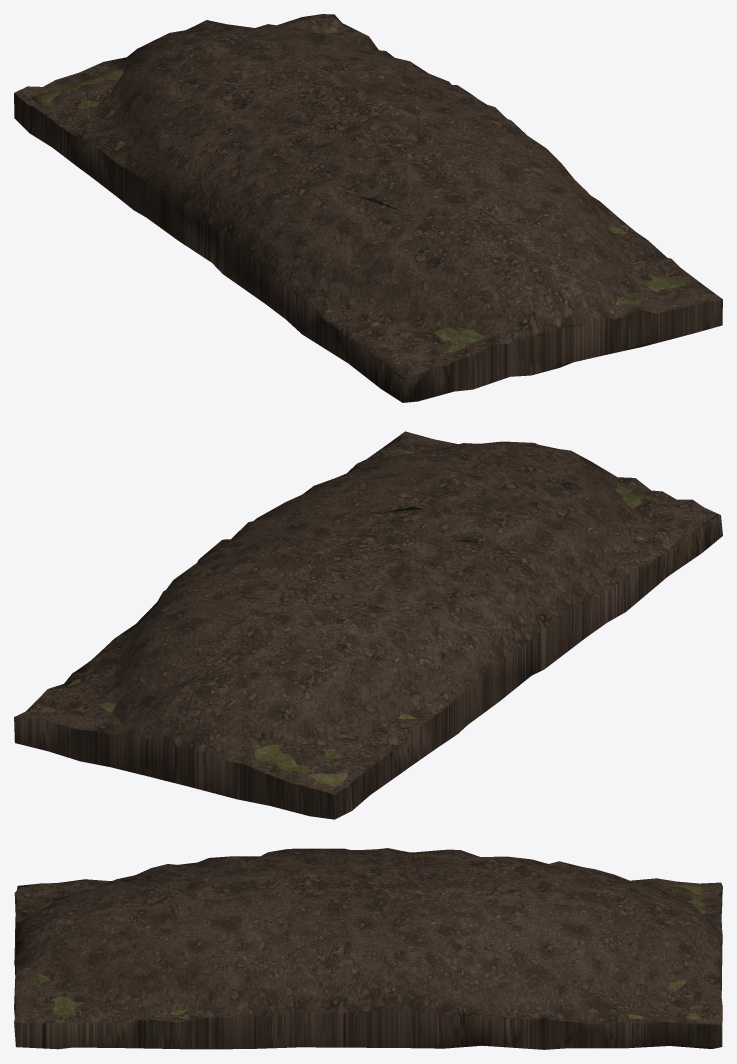
The model's file is mound.glb.
3 views of the same model, one above another, from view 1: azimuth 30°, elevation 25°; view 2: azimuth 150°, elevation 25°; view 3: azimuth 270°, elevation 25° (orthographic). The views are drawn at different scales.
Visible parts, largest first — view 1: mound_a, mound_b; view 2: mound_a, mound_b; view 3: mound_a, mound_b.
Boxes of the visible parts, box(x1,y1,x2,y2) form: mound_a: box(14, 14, 722, 402); mound_b: box(31, 26, 688, 367); mound_a: box(14, 431, 722, 819); mound_b: box(39, 448, 659, 786); mound_a: box(14, 848, 722, 1049); mound_b: box(31, 885, 705, 1019).
Size of the model in its own units: 1.26 by 0.4112 by 2.63.
Materials: 1 (1 with a texture image).
